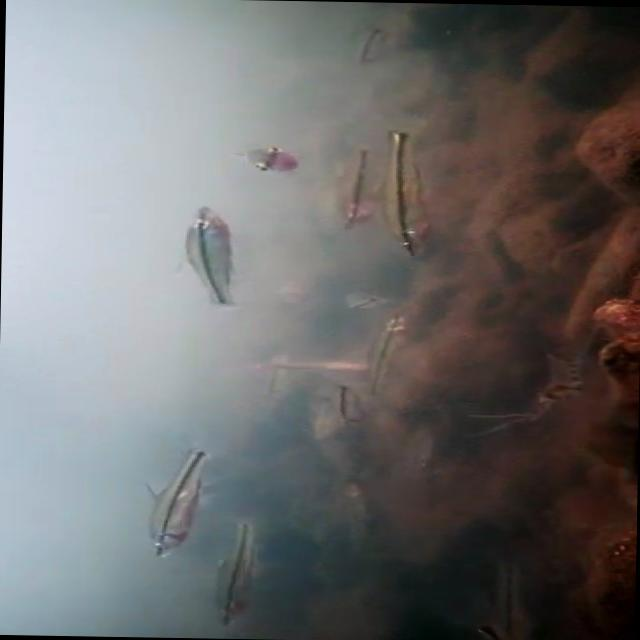Cakil Baligi: (138, 435, 222, 556), (381, 110, 446, 260), (167, 202, 259, 306)
